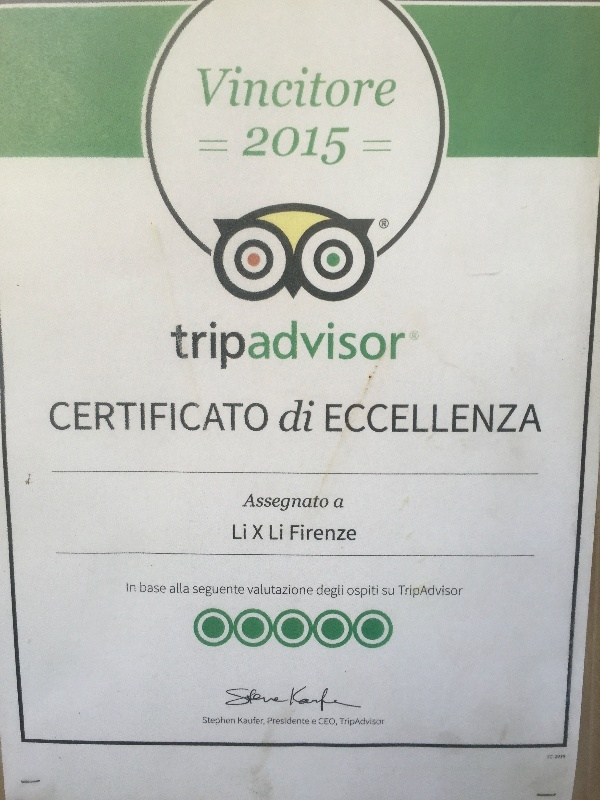text: (177, 318, 192, 375), (193, 318, 208, 375), (209, 318, 224, 375), (225, 318, 240, 375), (241, 318, 256, 375), (257, 318, 272, 375), (273, 318, 288, 375), (289, 318, 304, 375), (305, 318, 320, 375), (321, 318, 336, 375), (337, 318, 352, 375), (353, 318, 368, 375), (369, 318, 384, 375), (385, 318, 400, 375), (337, 121, 353, 171), (209, 61, 224, 112), (225, 61, 240, 112), (241, 61, 256, 112), (257, 61, 272, 112), (273, 61, 288, 112), (289, 61, 304, 112), (305, 61, 320, 112), (321, 61, 336, 112), (337, 61, 352, 112), (353, 61, 368, 112), (369, 61, 384, 112), (385, 61, 400, 112), (257, 121, 272, 171), (273, 121, 288, 171), (289, 121, 304, 171), (305, 121, 320, 171), (321, 121, 336, 171), (195, 61, 208, 112), (49, 397, 64, 439), (65, 397, 80, 439), (81, 397, 96, 439), (97, 397, 112, 439), (113, 397, 128, 439), (129, 397, 144, 439), (145, 397, 160, 439), (161, 397, 176, 439), (177, 397, 192, 439), (193, 397, 208, 439), (209, 397, 224, 439), (225, 397, 240, 439), (241, 397, 256, 439), (257, 397, 271, 439), (289, 397, 304, 436), (305, 397, 319, 436), (241, 682, 256, 715), (257, 682, 272, 715), (273, 682, 288, 715), (289, 682, 304, 715), (305, 682, 320, 715), (321, 682, 336, 715), (337, 682, 352, 715), (353, 682, 368, 715), (337, 403, 352, 435), (353, 403, 368, 435), (369, 403, 384, 435), (385, 403, 400, 435), (401, 403, 416, 435), (417, 403, 432, 435), (433, 403, 448, 435), (449, 403, 464, 435), (465, 403, 480, 435), (481, 403, 496, 435), (497, 403, 512, 435), (513, 403, 528, 435), (529, 403, 544, 435), (226, 682, 240, 715), (169, 318, 176, 375), (401, 318, 408, 375), (249, 121, 256, 171), (326, 403, 336, 435), (305, 524, 320, 544), (321, 524, 336, 544), (337, 524, 352, 544), (257, 494, 272, 513), (273, 494, 288, 513), (289, 494, 304, 513), (305, 494, 320, 513), (290, 524, 304, 544), (353, 583, 368, 600), (321, 584, 336, 600), (193, 584, 208, 599), (209, 584, 224, 599), (225, 584, 240, 599), (401, 584, 416, 599), (417, 584, 432, 599), (433, 584, 448, 599), (449, 584, 464, 599), (273, 523, 284, 543), (145, 581, 160, 595), (257, 583, 272, 597), (273, 583, 288, 597), (289, 583, 304, 597), (241, 714, 256, 728), (257, 714, 272, 728), (273, 714, 288, 728), (289, 714, 304, 728), (369, 717, 385, 728), (369, 583, 379, 600), (209, 716, 224, 727), (321, 717, 336, 728), (337, 717, 352, 728), (353, 717, 368, 728), (284, 397, 288, 436), (321, 494, 329, 513), (177, 583, 189, 595), (233, 522, 240, 542), (246, 583, 256, 597), (337, 495, 345, 511), (257, 524, 264, 542), (225, 716, 236, 727), (241, 522, 247, 542), (250, 494, 256, 513), (305, 583, 313, 597), (337, 584, 344, 600), (385, 586, 395, 597), (347, 583, 352, 600), (129, 581, 136, 593), (305, 714, 311, 728), (353, 524, 357, 544), (252, 524, 256, 542), (170, 583, 176, 595), (161, 581, 166, 595), (202, 716, 208, 727), (312, 718, 320, 726), (269, 523, 272, 543), (241, 584, 245, 599), (140, 581, 144, 595), (317, 584, 320, 600), (237, 714, 240, 728), (398, 584, 400, 599), (126, 581, 128, 593), (382, 586, 384, 597), (335, 495, 336, 511), (319, 717, 320, 728)
